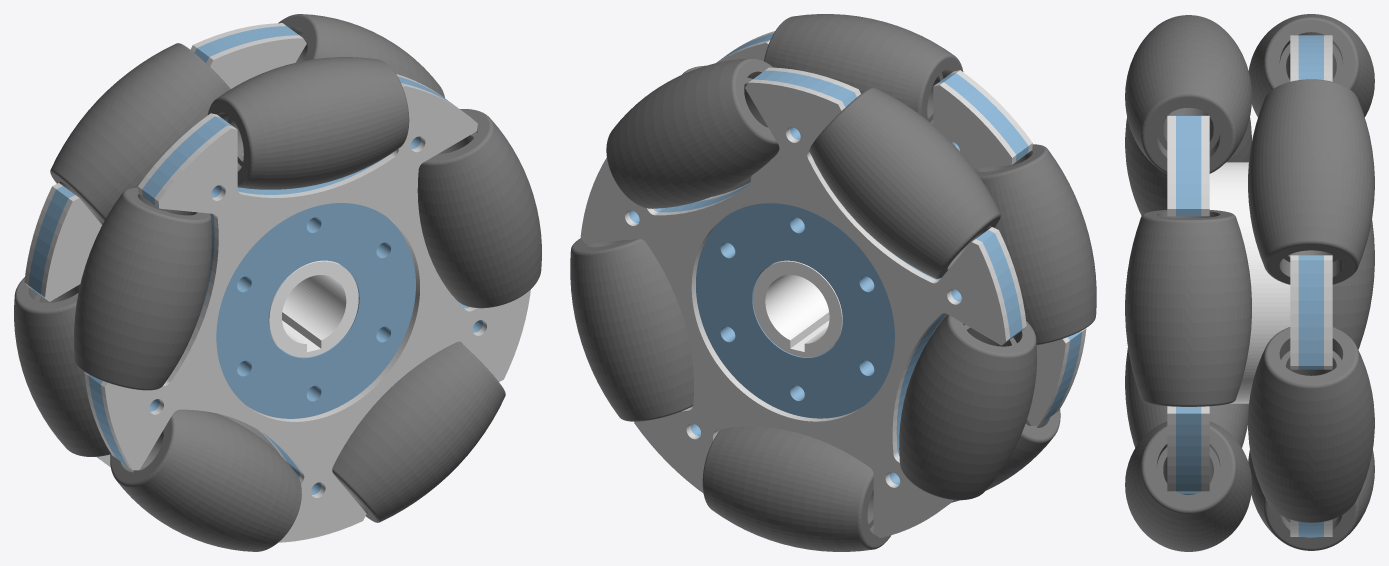
File: omni_wheel.dae
3 renders of one model, left to right at view 1: azimuth 30°, elevation 25°; view 2: azimuth 150°, elevation 25°; view 3: azimuth 270°, elevation 25°, orthographic. The views are drawn at different scales.
Parts seen in each view (by area): view 1: Untitled_009, Untitled_006, Untitled_008, Untitled_011, Untitled_005, Untitled_015, Untitled_016, Untitled_010, Untitled, Untitled_014, Untitled_004, Untitled_003 (+3 smaller); view 2: Untitled_001, Untitled_013, Untitled_010, Untitled, Untitled_003, Untitled_012, Untitled_007, Untitled_008, Untitled_011, Untitled_004, Untitled_002, Untitled_006 (+3 smaller); view 3: Untitled_015, Untitled_003, Untitled_007, Untitled_011, Untitled_016, Untitled_010, Untitled_004, Untitled_006, Untitled_013, Untitled_012, Untitled_005, Untitled (+5 smaller).
Part boxes in pixels (box(x1,y1,x2,y2)): Untitled_009: box(100, 83, 530, 542); Untitled_006: box(88, 76, 482, 494); Untitled_008: box(74, 187, 211, 390); Untitled_011: box(207, 57, 409, 189); Untitled_005: box(110, 409, 301, 551); Untitled_015: box(417, 109, 541, 308); Untitled_016: box(332, 341, 505, 522); Untitled_010: box(50, 43, 230, 224); Untitled: box(14, 277, 110, 456); Untitled_014: box(41, 35, 306, 466); Untitled_004: box(268, 260, 358, 357); Untitled_003: box(278, 14, 444, 97); Untitled_001: box(580, 79, 1010, 537); Untitled_013: box(629, 70, 1022, 503); Untitled_010: box(809, 87, 1000, 278); Untitled: box(899, 314, 1036, 500); Untitled_003: box(606, 58, 779, 208); Untitled_012: box(702, 426, 890, 551); Untitled_007: box(570, 238, 693, 421); Untitled_008: box(974, 144, 1096, 344); Untitled_011: box(764, 14, 963, 124); Untitled_004: box(753, 260, 947, 357); Untitled_002: box(716, 40, 1069, 425); Untitled_006: box(716, 33, 1082, 422); Untitled_015: box(1125, 210, 1251, 406); Untitled_003: box(1248, 79, 1374, 284); Untitled_007: box(1248, 327, 1374, 522); Untitled_011: box(1125, 15, 1251, 173); Untitled_016: box(1125, 421, 1251, 551); Untitled_010: box(1248, 14, 1374, 117); Untitled_004: box(1209, 162, 1290, 403); Untitled_006: box(1176, 115, 1201, 494); Untitled_013: box(1298, 35, 1323, 536); Untitled_012: box(1248, 450, 1374, 550); Untitled_005: box(1125, 348, 1248, 447); Untitled: box(1332, 220, 1374, 349).
Size of the model in its own units: 0.127 by 0.059 by 0.127.
